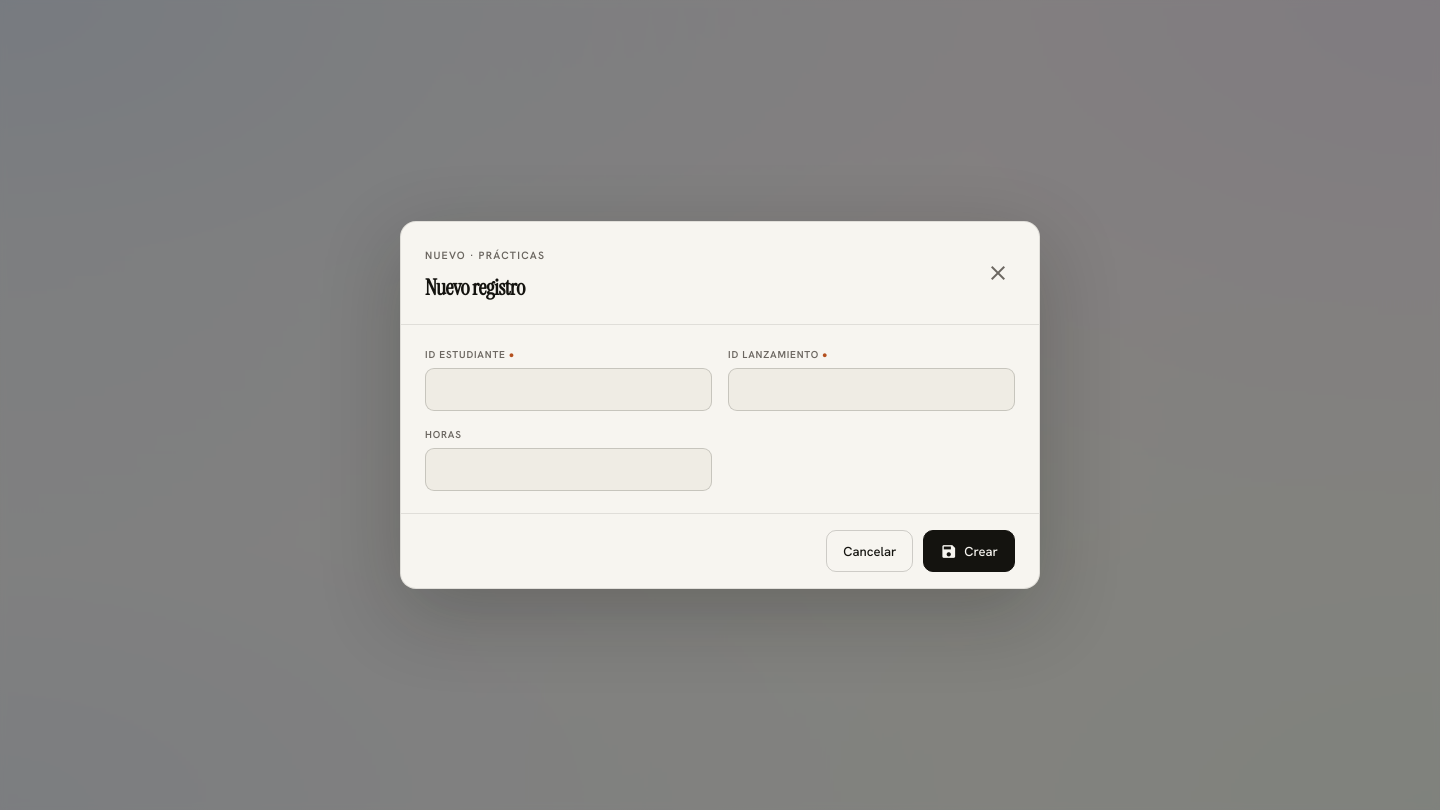
Test case: RecordEditModal — campos exclusivos de creación › mantiene los vínculos disponibles y obligatorios al crear
expect the text "ID Estudiante" is shown: met, box x1=425 y1=348 x2=506 y2=361
expect the text "ID Lanzamiento" is shown: met, box x1=728 y1=348 x2=819 y2=361
Click the button "Crear": (969, 551) x1=923 y1=530 x2=1015 y2=572
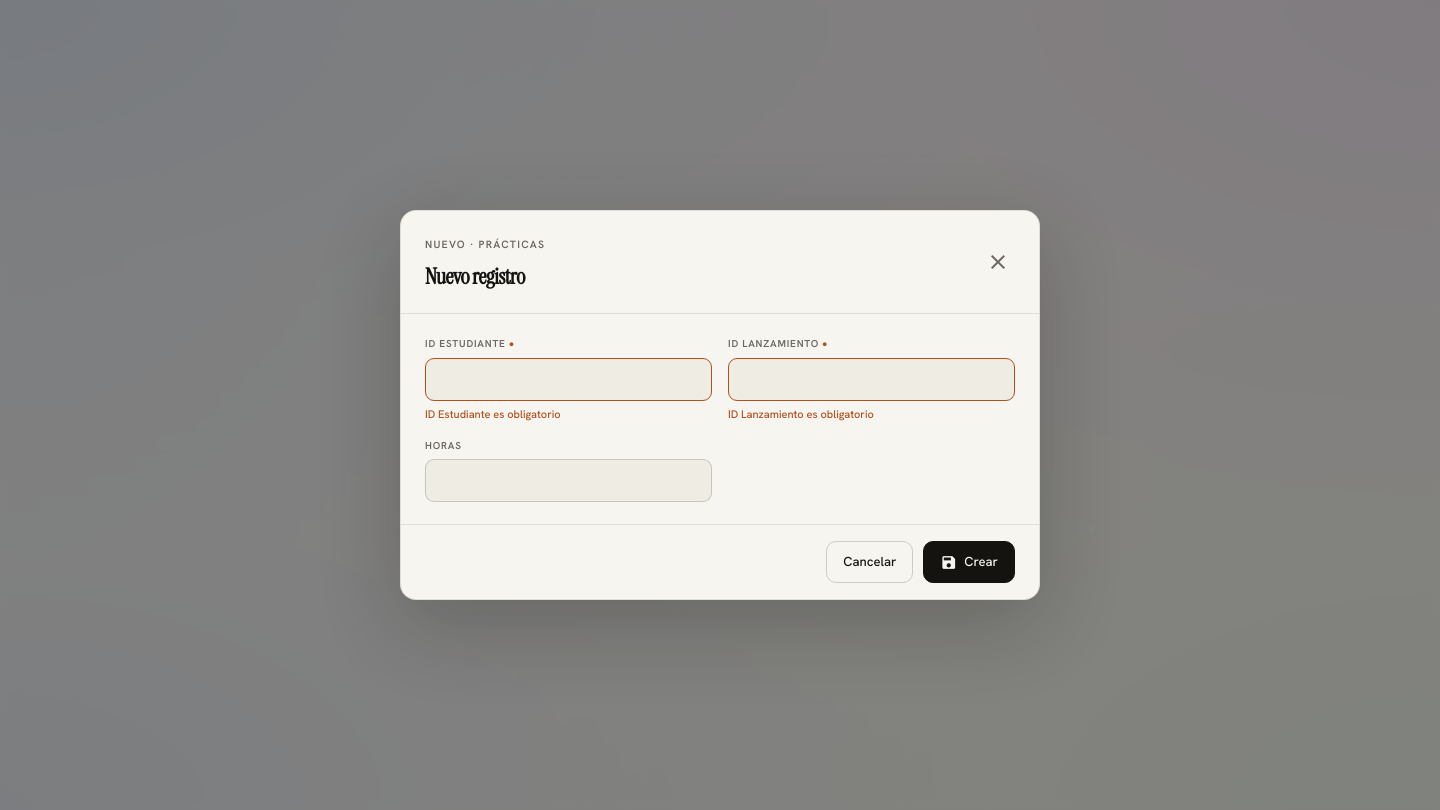
expect the text "ID Estudiante es obligatorio" is shown: met, box x1=425 y1=406 x2=561 y2=420
expect the text "ID Lanzamiento es obligatorio" is shown: met, box x1=728 y1=406 x2=874 y2=420
